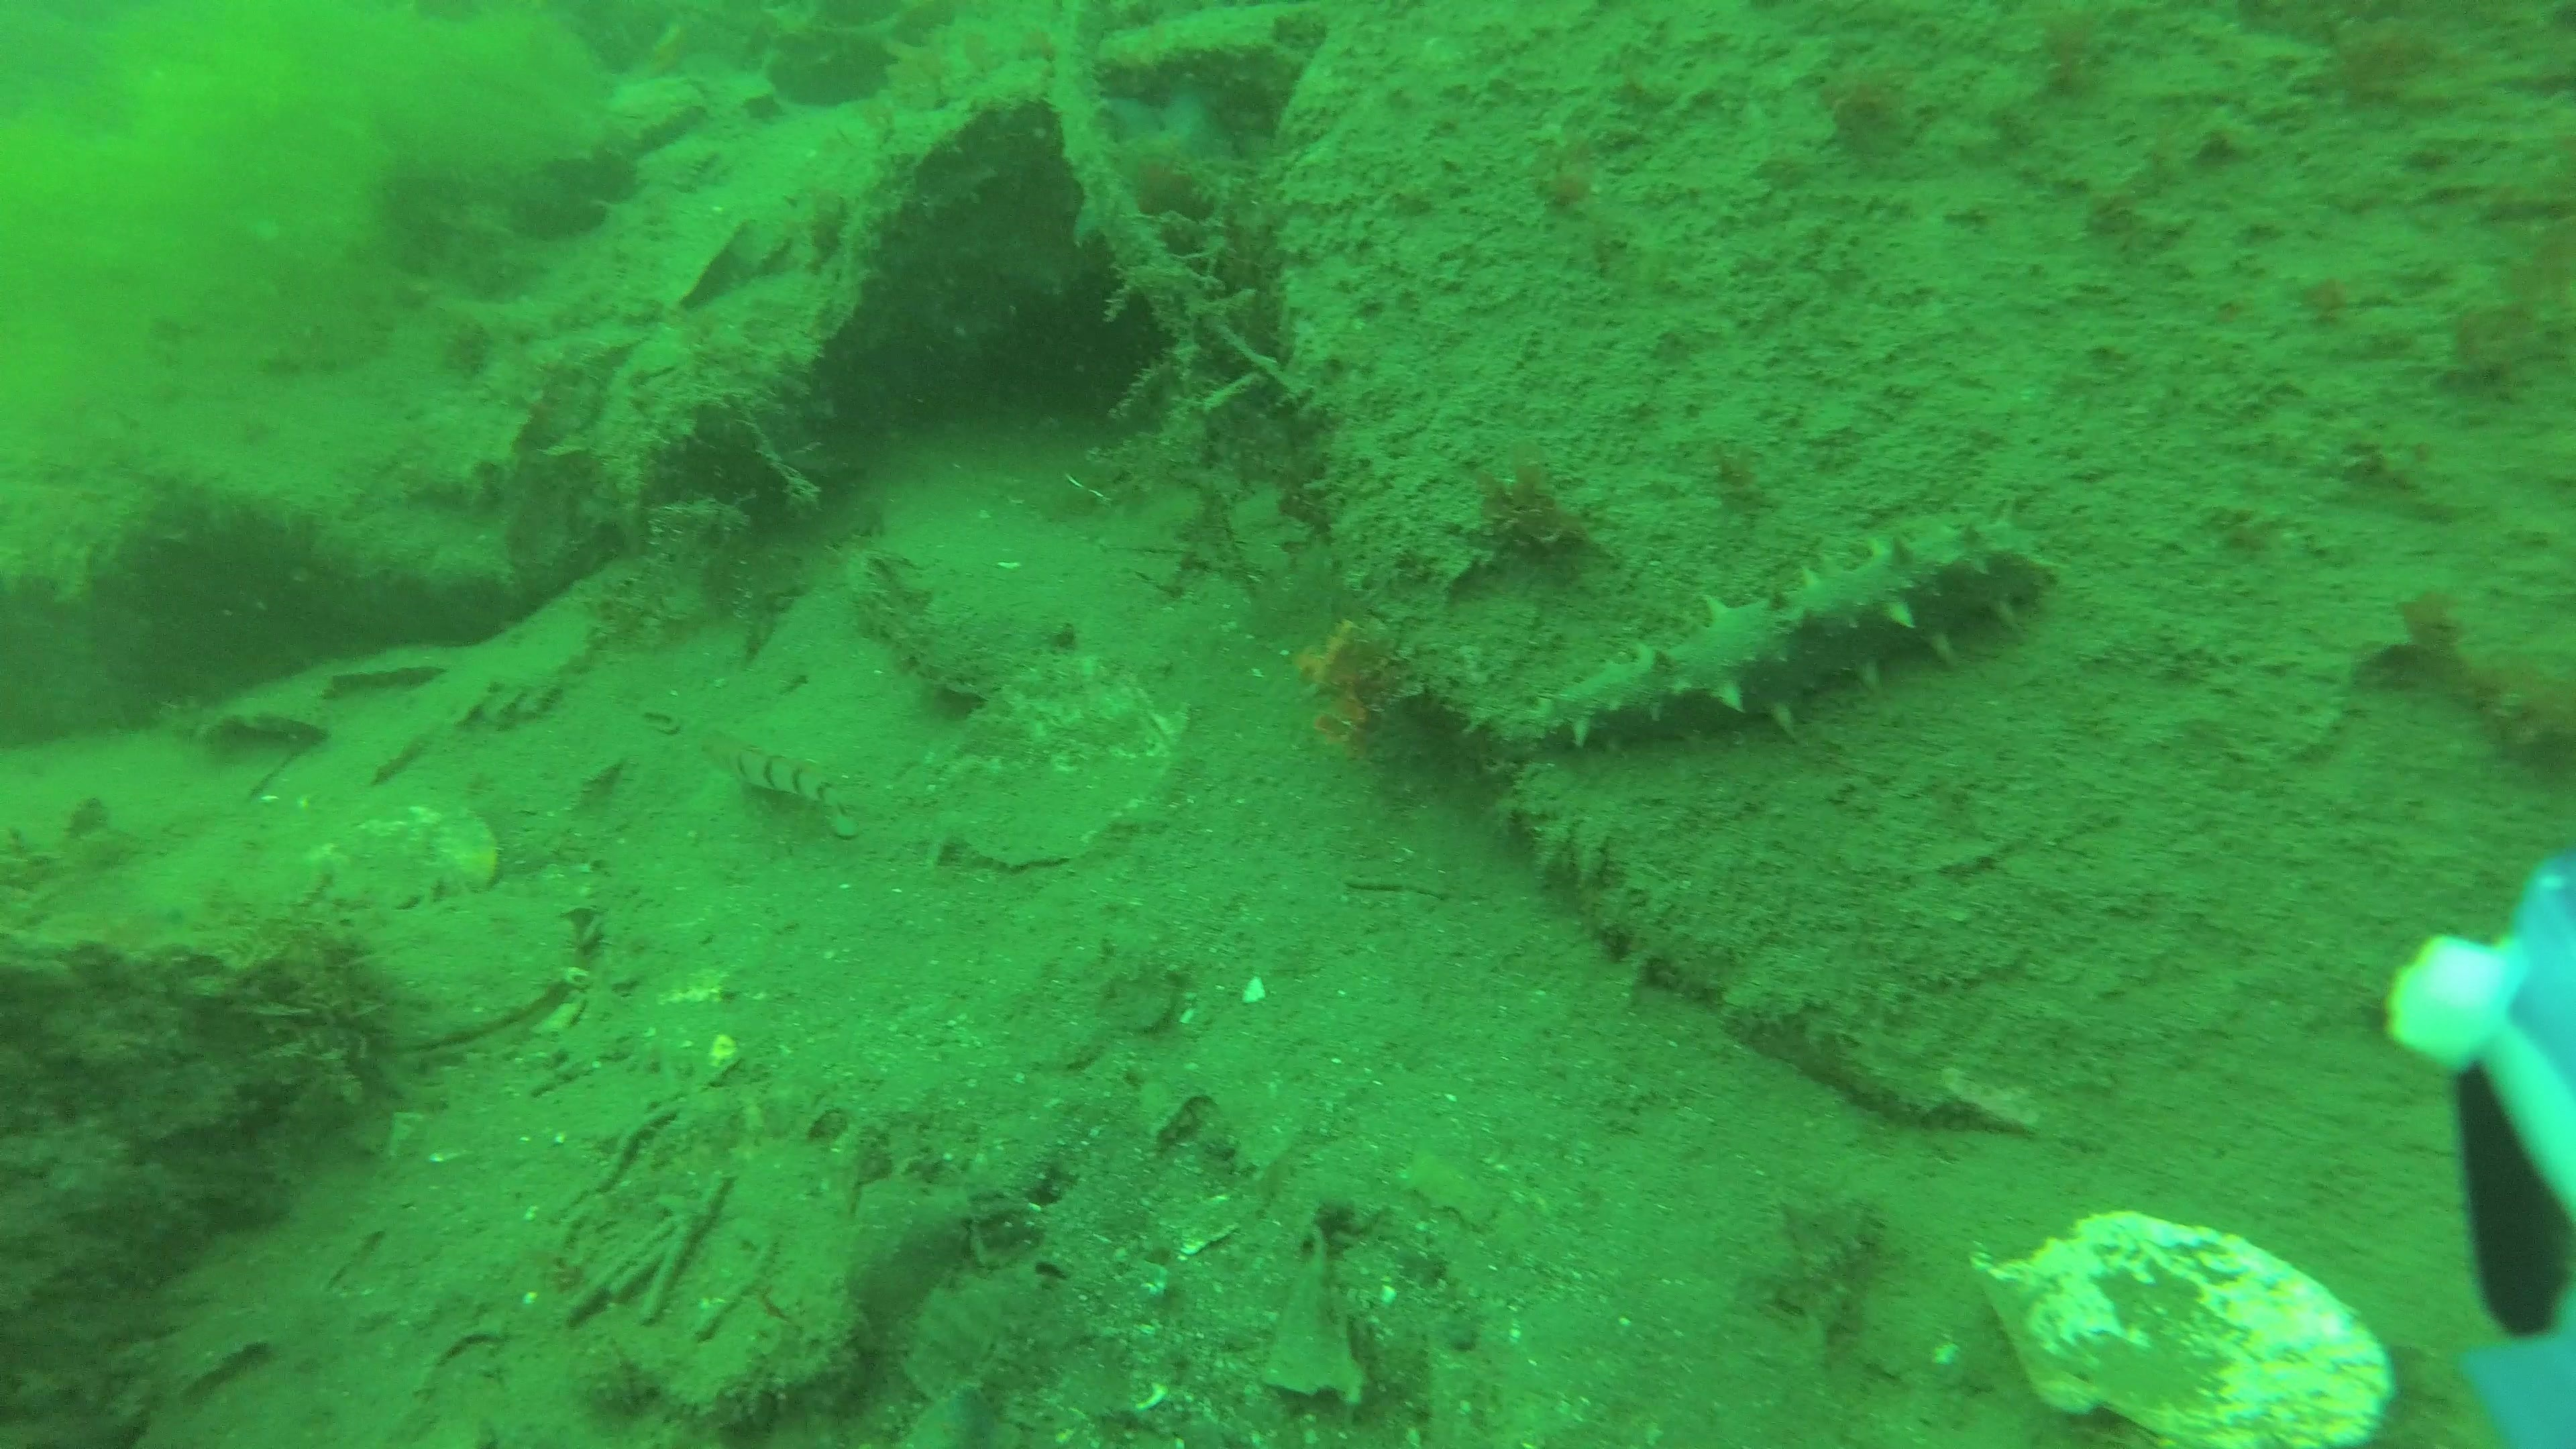holothurian: (1523, 497, 2061, 752)
scallop: (1973, 1214, 2396, 1449), (945, 658, 1184, 869), (303, 800, 504, 918)
starfish: (1074, 81, 1256, 249)
